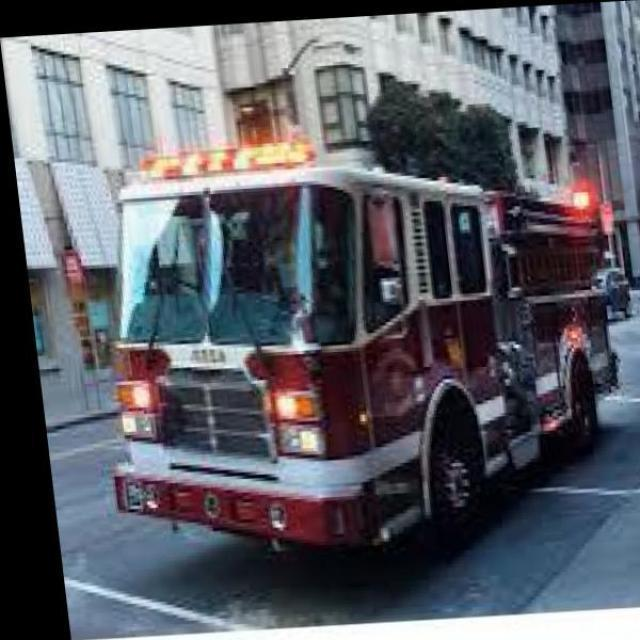emergency: (107, 130, 621, 562)
